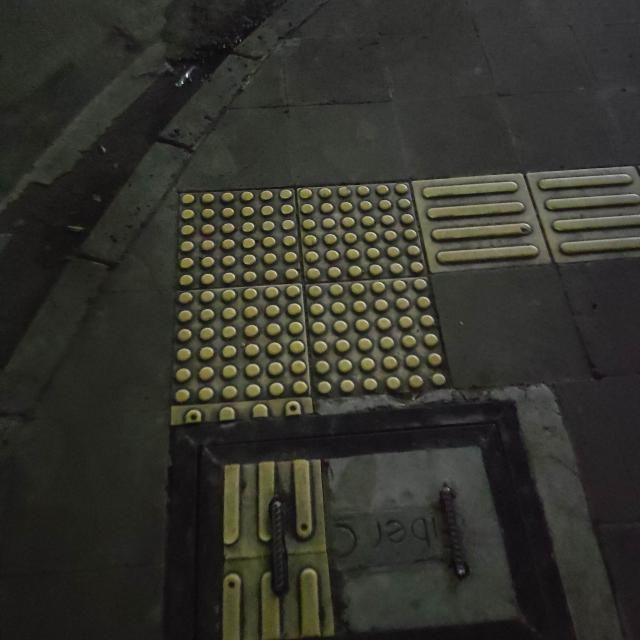kanan: (134, 127, 640, 492)
